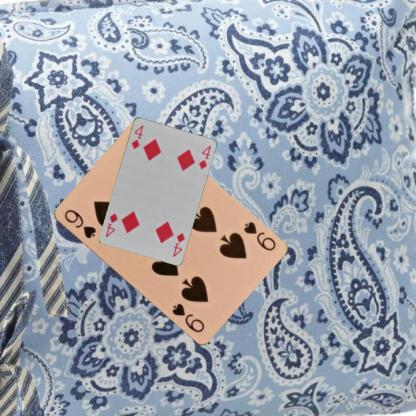4d: (170, 230, 186, 258), (129, 123, 144, 150)
9s: (240, 218, 277, 252), (61, 206, 97, 240)
